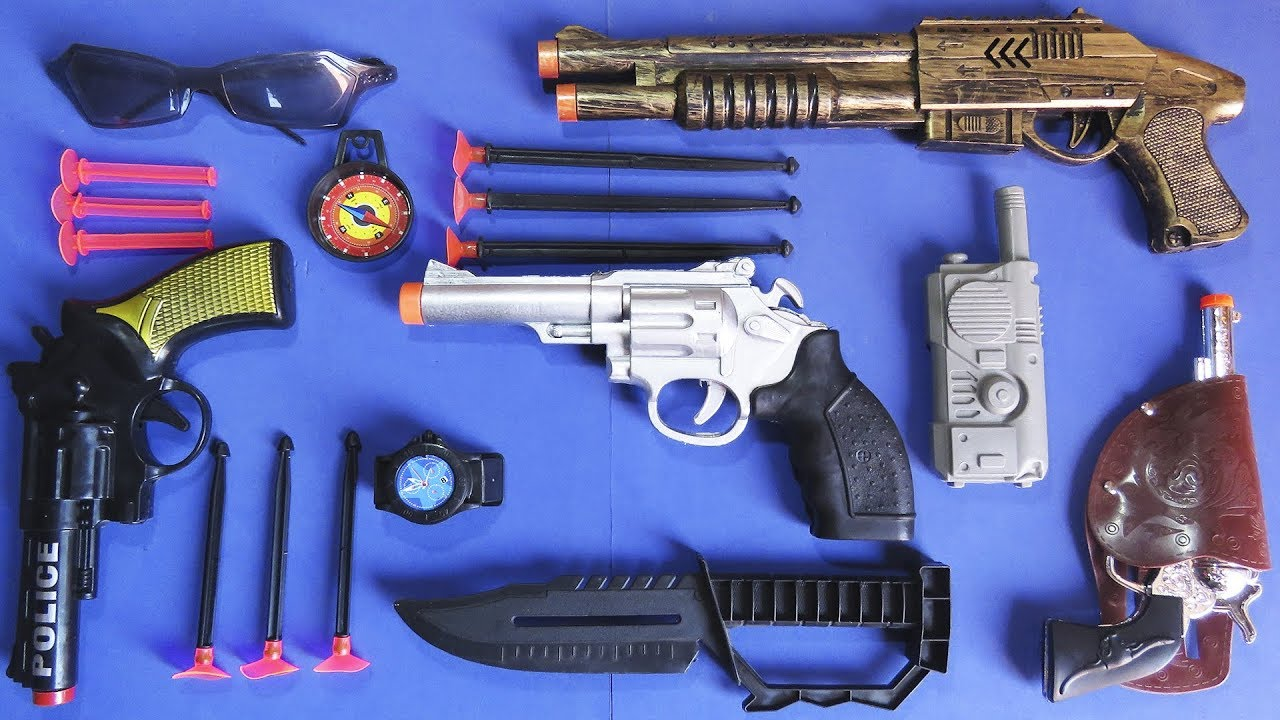Arma Falsa: (525, 16, 1245, 263), (394, 257, 947, 534), (7, 237, 285, 720)
